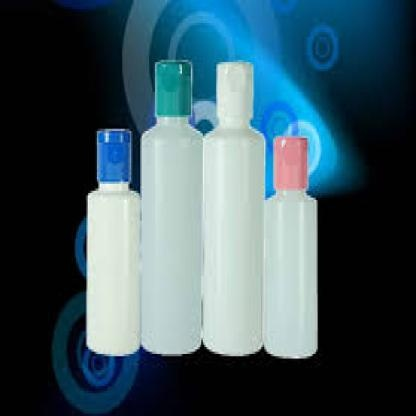trash: (141, 60, 202, 354), (203, 62, 264, 355), (86, 129, 139, 355), (263, 137, 317, 357)
